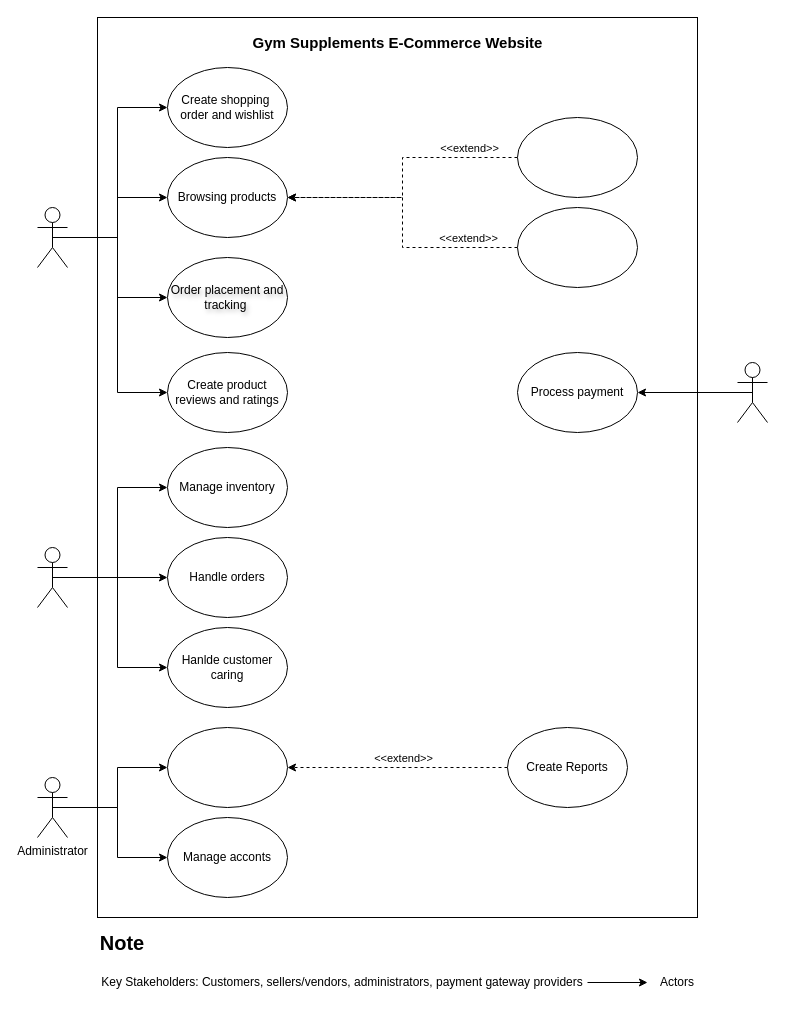
Some shapes in this 796 by 1015 pixel diagram are drawn without their labels. Here are the shapes that lost their labels. From the top down, the centre of each, then its label:
At point 577,157: "Filter products by categories and brands".
At point 52,237: "Customer".
At point 577,247: "Search products by name".
At point 752,392: "Payment gateway providers".
At point 52,577: "Seller".
At point 227,767: "Access seller dashboard".
